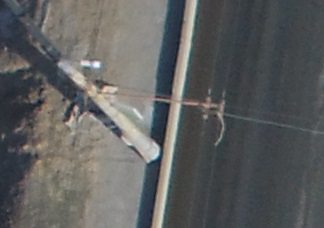opora: (52, 52, 167, 165)
